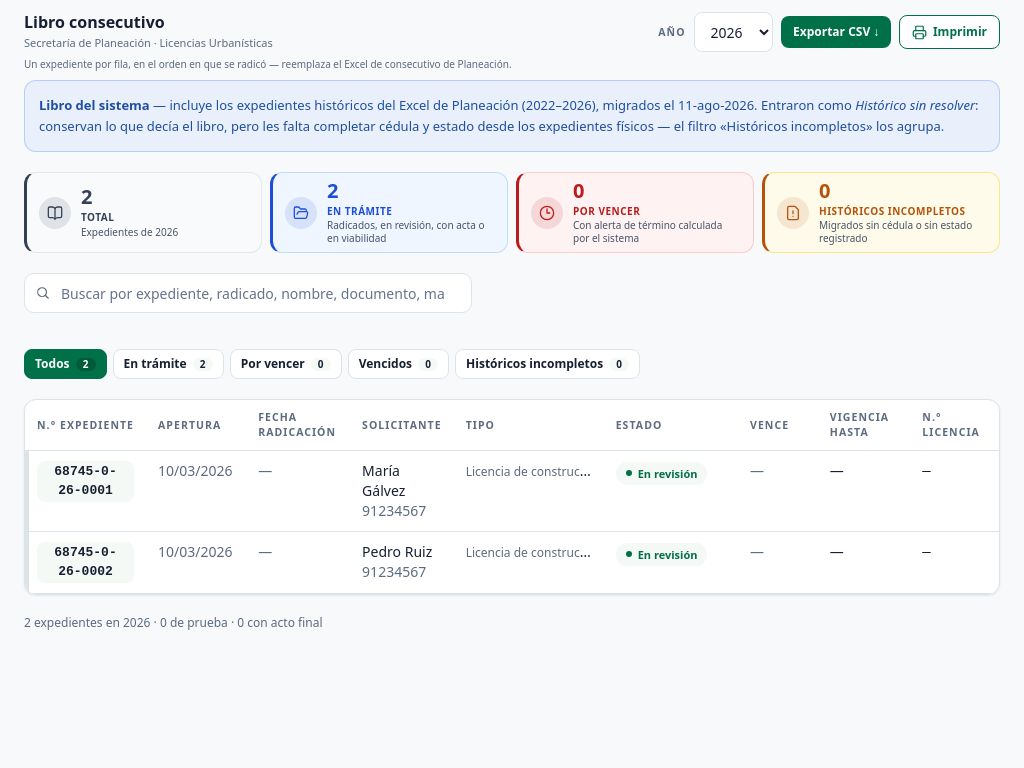
it: LibroConsecutivoClient › buscador rápido: filtra por nombre del solicitante, insensible a acentos/mayúsculas
Select "2026" in the dropdown named "Año del libro consecutivo" at (733, 32), box [694,12,773,52]
Expected: the text "68745-0-26-0002" is shown, [37,542,134,583]
Replace the text in the search field named "Buscar en el libro consecutivo por expediente, radicado, solicitante, documento, matrícula inmobiliaria, tipo o estado" with "MARIA GALVEZ" at (248, 293), box [24,273,472,313]
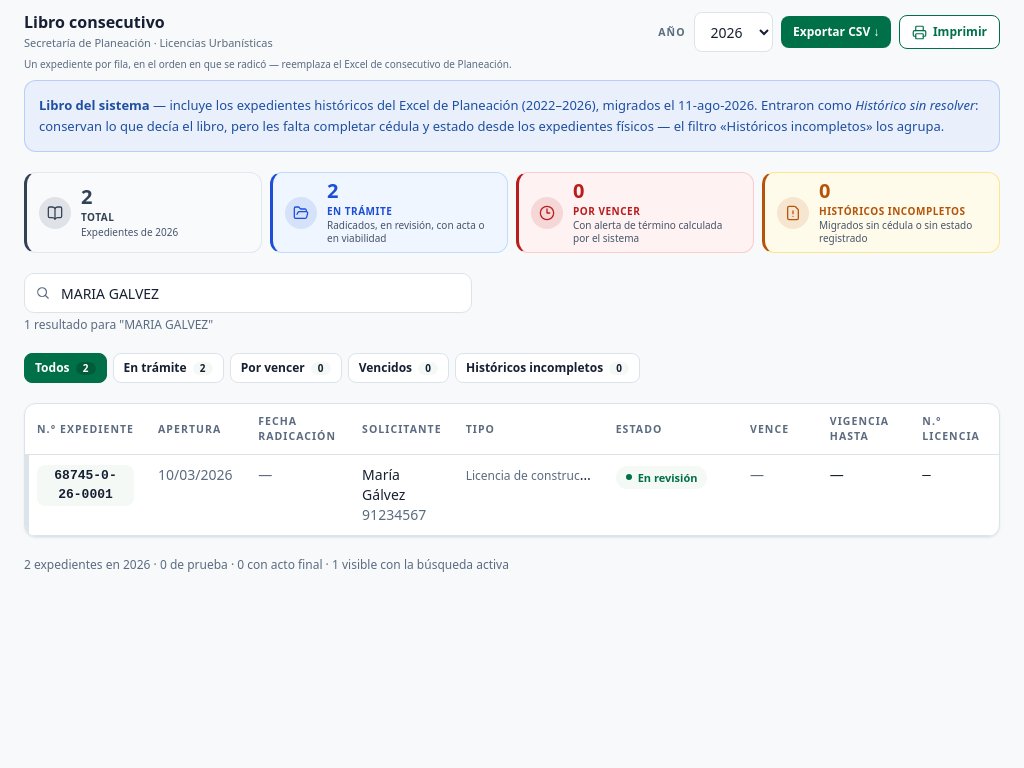
Expected: the text "68745-0-26-0001" is shown, [37,465,134,506]
Expected: the button "68745-0-26-0002" is gone
Expected: the text "1 resultado para \"MARIA GALVEZ\"" is shown, [24,316,213,333]
